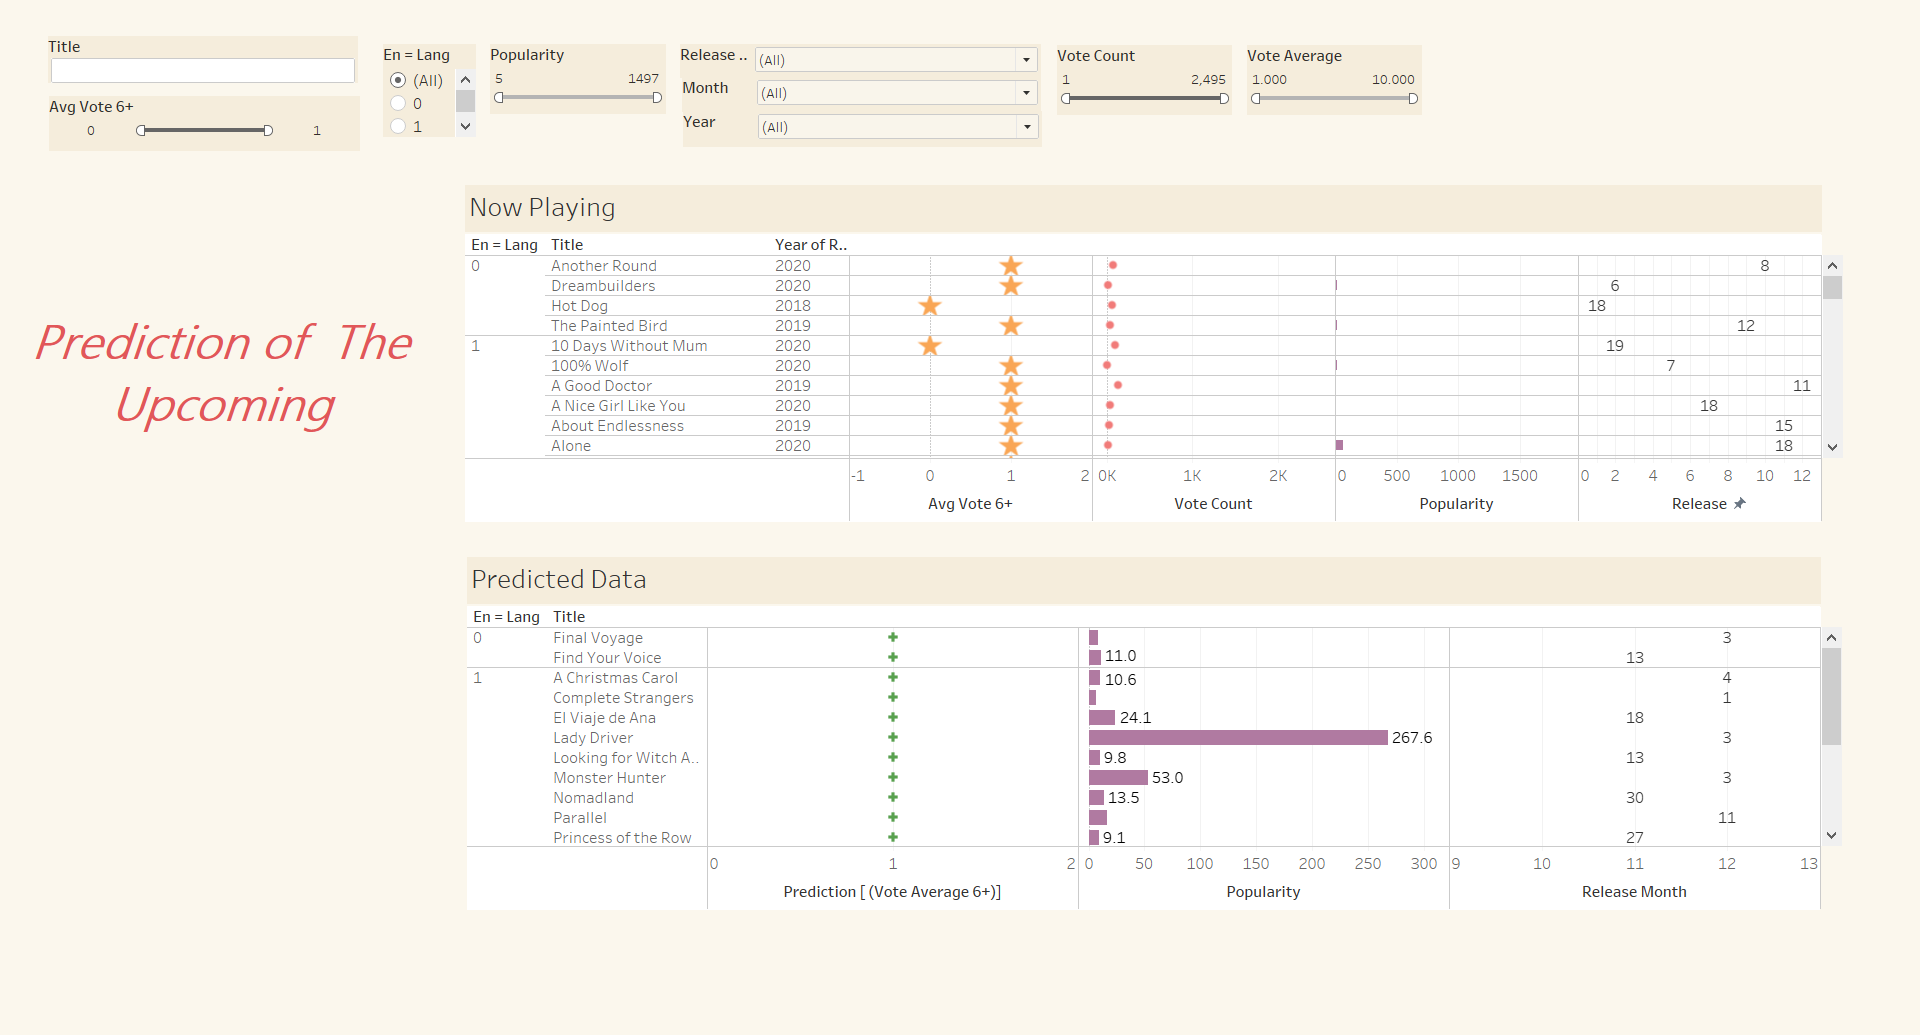

What the dashboard file says about the page in this screenshot:
{"tool":"tableau","page":{"name":"Dash B","canvas":[1000,1000],"units":"permille","ordinal":1},"visuals":[{"type":"worksheet","title":"Train Data With The Parameters","mark":"Shape","rows":["en = lang","title","release_date"],"cols":["avg_vote_6+","vote_count","popularity","release_month"],"param":"[federated.061fnxu0zscyg317osllc0d2nsyg].[none:title:nk]","box":[23.5,32.1,164.8,50.9]},{"type":"worksheet","title":"Train Data With The Parameters","mark":"Shape","rows":["en = lang","title","release_date"],"cols":["avg_vote_6+","vote_count","popularity","release_month"],"param":"[federated.061fnxu0zscyg317osllc0d2nsyg].[none:en = lang:ok]","box":[199.7,42,48.6,89.6]},{"type":"worksheet","title":"Train Data With The Parameters","mark":"Shape","rows":["en = lang","title","release_date"],"cols":["avg_vote_6+","vote_count","popularity","release_month"],"param":"[federated.061fnxu0zscyg317osllc0d2nsyg].[none:popularity:qk]","box":[255.2,42,91.5,67.5]},{"type":"worksheet","title":"Train Data With The Parameters","mark":"Shape","rows":["en = lang","title","release_date"],"cols":["avg_vote_6+","vote_count","popularity","release_month"],"param":"[federated.061fnxu0zscyg317osllc0d2nsyg].[none:release_day:ok]","box":[354.1,42,188.2,33.2]},{"type":"worksheet","title":"Train Data With The Parameters","mark":"Shape","rows":["en = lang","title","release_date"],"cols":["avg_vote_6+","vote_count","popularity","release_month"],"param":"[federated.061fnxu0zscyg317osllc0d2nsyg].[attr:vote_count:qk]","box":[550.3,43.1,91.5,67.5]},{"type":"worksheet","title":"Train Data With The Parameters","mark":"Shape","rows":["en = lang","title","release_date"],"cols":["avg_vote_6+","vote_count","popularity","release_month"],"param":"[federated.061fnxu0zscyg317osllc0d2nsyg].[attr:vote_average:qk]","box":[649.5,43.1,91.3,67.5]},{"type":"worksheet","title":"Train Data With The Parameters","mark":"Shape","rows":["en = lang","title","release_date"],"cols":["avg_vote_6+","vote_count","popularity","release_month"],"param":"[federated.061fnxu0zscyg317osllc0d2nsyg].[none:release_month:ok]","box":[355.3,74.1,187.1,33.2]},{"type":"worksheet","title":"Train Data With The Parameters","mark":"Shape","rows":["en = lang","title","release_date"],"cols":["avg_vote_6+","vote_count","popularity","release_month"],"param":"[federated.061fnxu0zscyg317osllc0d2nsyg].[none:avg_vote_6+:qk]","box":[24,89.6,165.3,58.6]},{"type":"worksheet","title":"Train Data With The Parameters","mark":"Shape","rows":["en = lang","title","release_date"],"cols":["avg_vote_6+","vote_count","popularity","release_month"],"param":"[federated.061fnxu0zscyg317osllc0d2nsyg].[yr:release_date:ok]","box":[355.8,106.2,187.1,34.3]},{"type":"worksheet","title":"Train Data With The Parameters","mark":"Shape","rows":["en = lang","title","release_date"],"cols":["avg_vote_6+","vote_count","popularity","release_month"],"box":[242.2,177,718,323]},{"type":"worksheet","title":"Predicted Data","mark":"Shape","rows":["en = lang","title"],"cols":["Output","popularity","release_month"],"box":[243.4,534.3,717.4,338.5]}]}

Visuals, with their boxes on the dashboard's canvas, which has no fixed pixel size, in thousandths of its width and height (x1, y1, x2, y2). These are canvas units, not pixel positions in the 1920x1035 screenshot, which may show the page scaled, cropped or inside an application window:
"Train Data With The Parameters" worksheet (Shape marks): region(24, 32, 188, 83)
"Train Data With The Parameters" worksheet (Shape marks): region(200, 42, 248, 132)
"Train Data With The Parameters" worksheet (Shape marks): region(255, 42, 347, 110)
"Train Data With The Parameters" worksheet (Shape marks): region(354, 42, 542, 75)
"Train Data With The Parameters" worksheet (Shape marks): region(550, 43, 642, 111)
"Train Data With The Parameters" worksheet (Shape marks): region(650, 43, 741, 111)
"Train Data With The Parameters" worksheet (Shape marks): region(355, 74, 542, 107)
"Train Data With The Parameters" worksheet (Shape marks): region(24, 90, 189, 148)
"Train Data With The Parameters" worksheet (Shape marks): region(356, 106, 543, 140)
"Train Data With The Parameters" worksheet (Shape marks): region(242, 177, 960, 500)
"Predicted Data" worksheet (Shape marks): region(243, 534, 961, 873)
